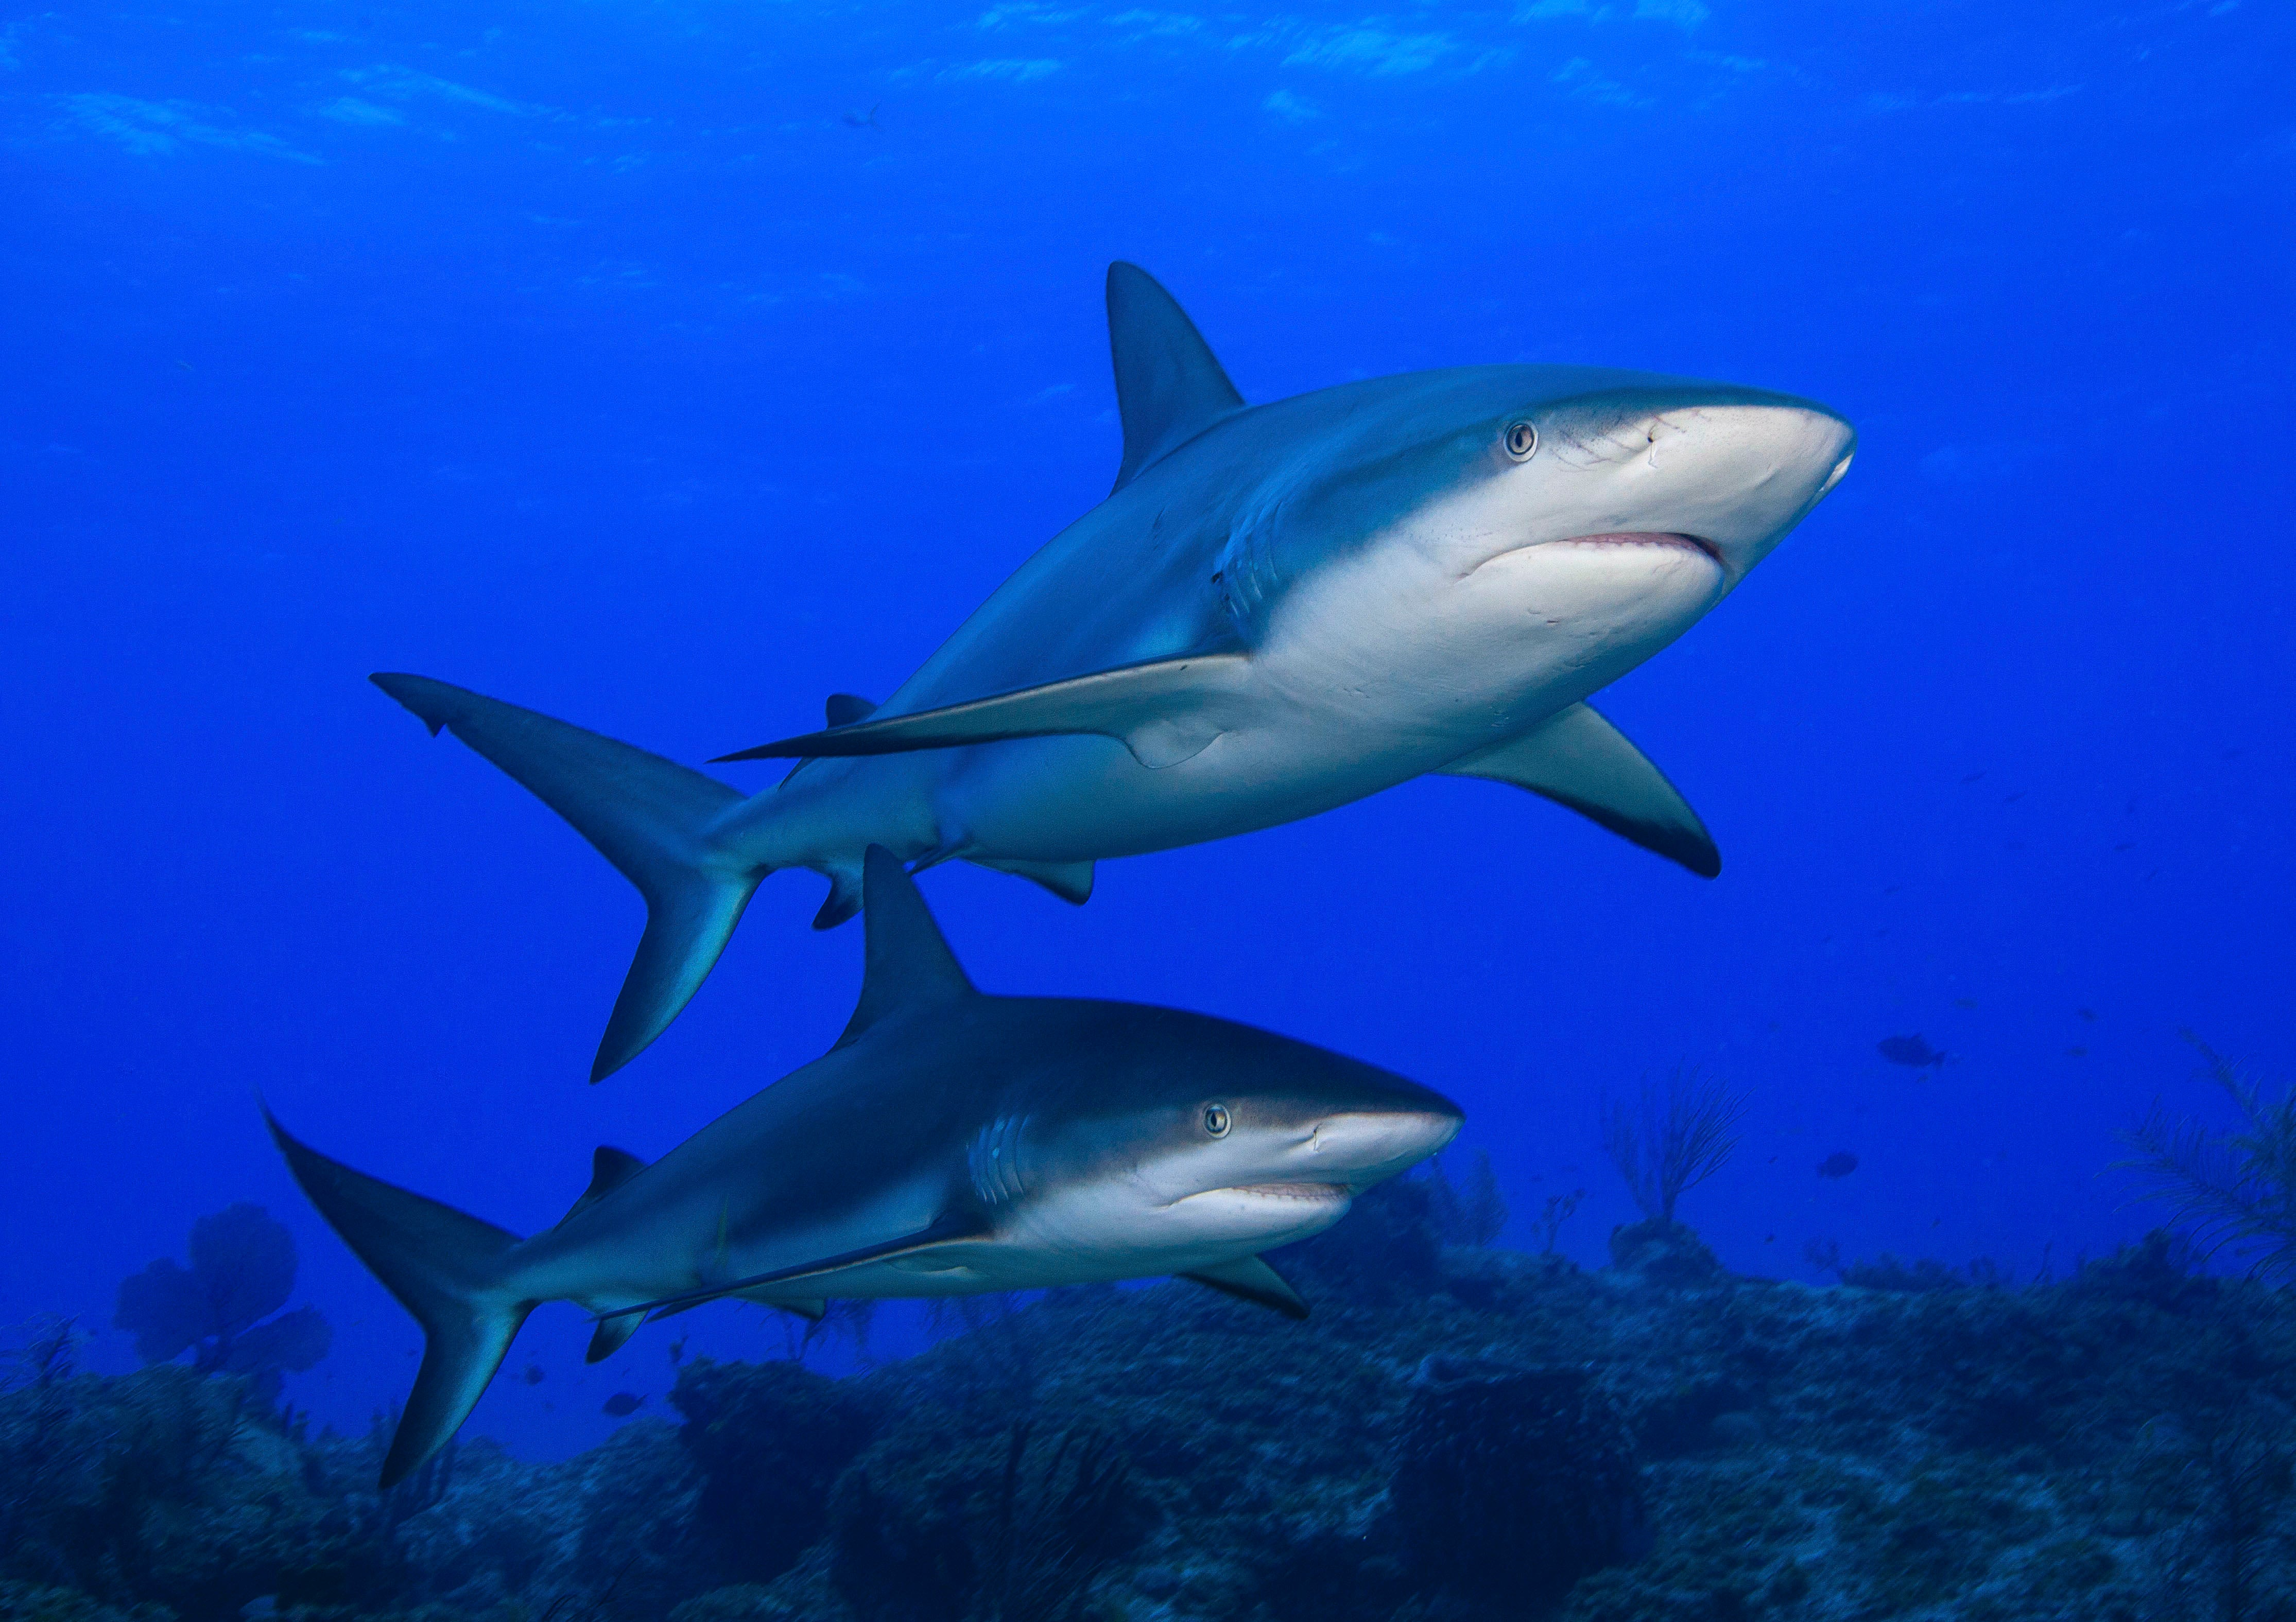Shark: (370, 249, 1864, 1076), (260, 846, 1452, 1483)
